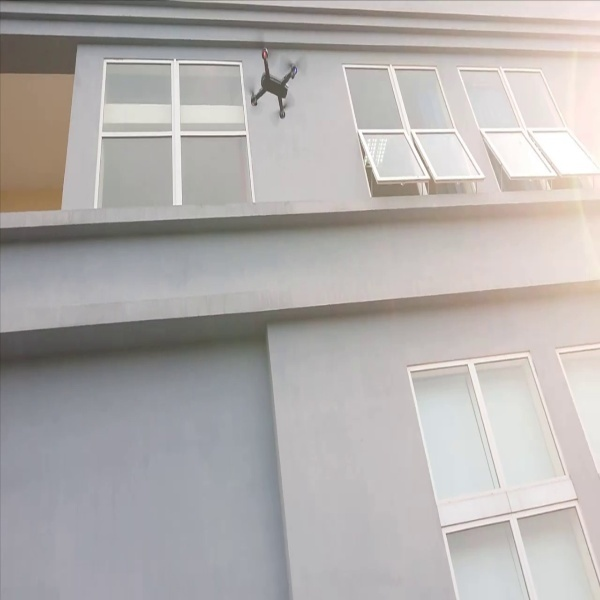drone: (245, 35, 313, 122)
